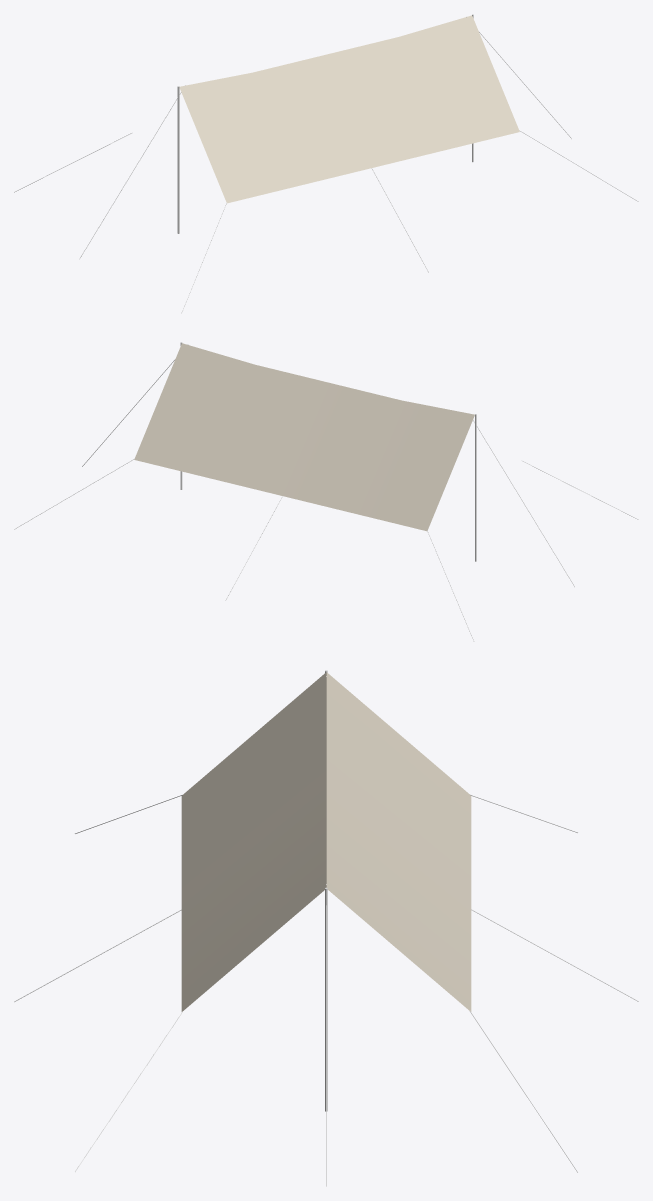
3 views of the same model, one above another, from view 1: azimuth 30°, elevation 25°; view 2: azimuth 150°, elevation 25°; view 3: azimuth 270°, elevation 25° (orthographic). The views are drawn at different scales.
Visible parts, largest first — view 1: 圆柱.8-材质, 圆柱.8; view 2: 圆柱.8-材质, 圆柱.8; view 3: 圆柱.8-材质, 圆柱.8.
Boxes of the visible parts, x1,y1,x2,y2 form: 圆柱.8-材质: (179, 15, 519, 203); 圆柱.8: (14, 14, 638, 313); 圆柱.8-材质: (134, 343, 474, 531); 圆柱.8: (14, 342, 638, 641); 圆柱.8-材质: (181, 672, 471, 1011); 圆柱.8: (14, 670, 638, 1186).
Size of the model in its own units: 56.95 by 16.41 by 41.28.
